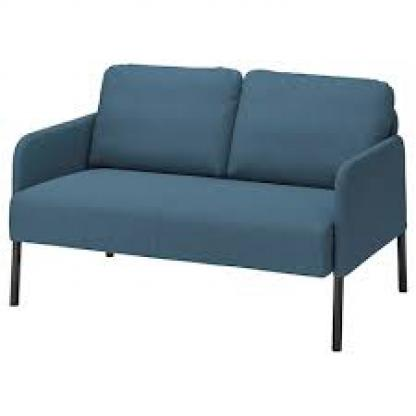sofa: (6, 64, 401, 309)
